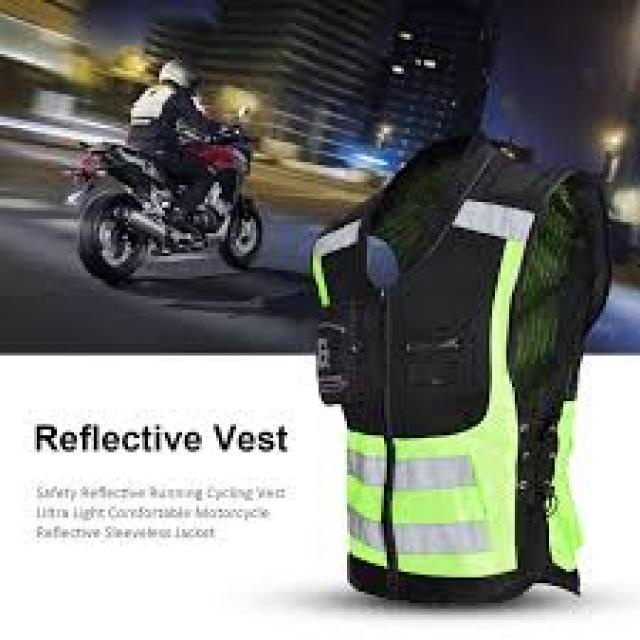Reflective-Jacket: (287, 125, 640, 617), (116, 82, 188, 176)
Safety-Helmet: (154, 54, 202, 97)
